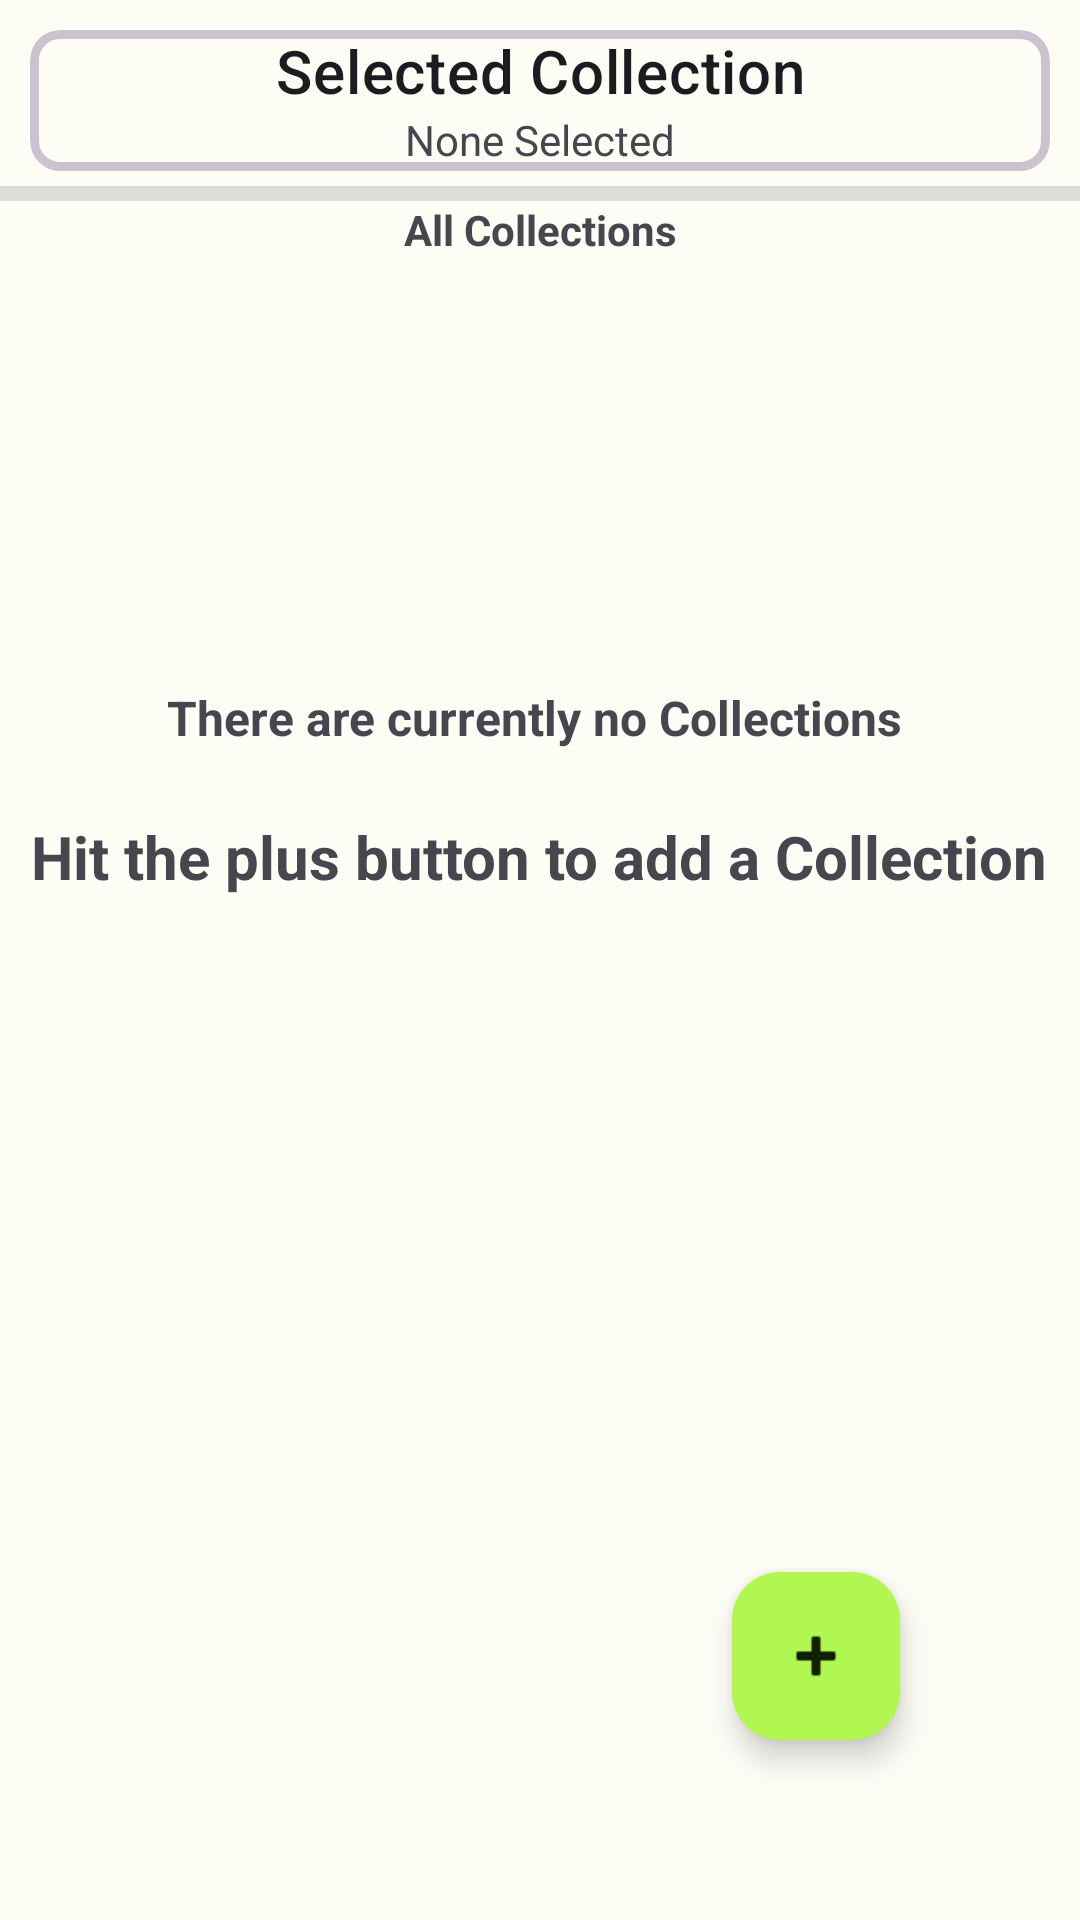

Screen size 1080 x 1920. Icon name, then its center in pixels as (x,y):
add: (816,1656)
